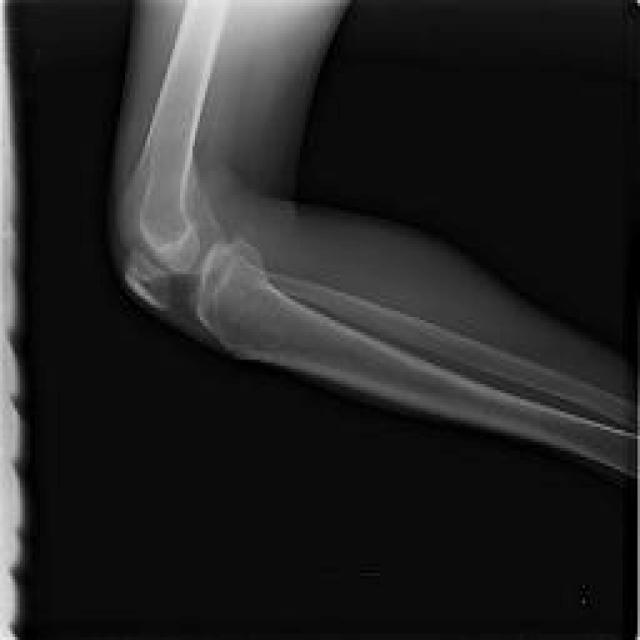normal: (124, 5, 635, 473)
